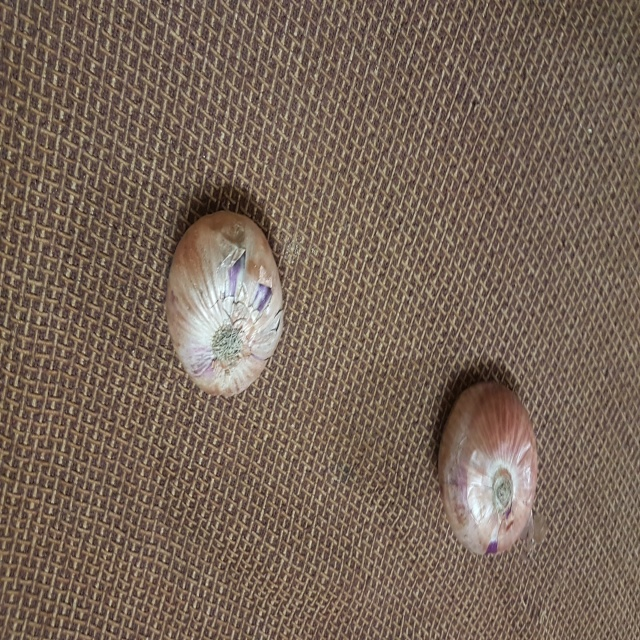onion: (162, 206, 296, 407), (435, 375, 549, 558)
